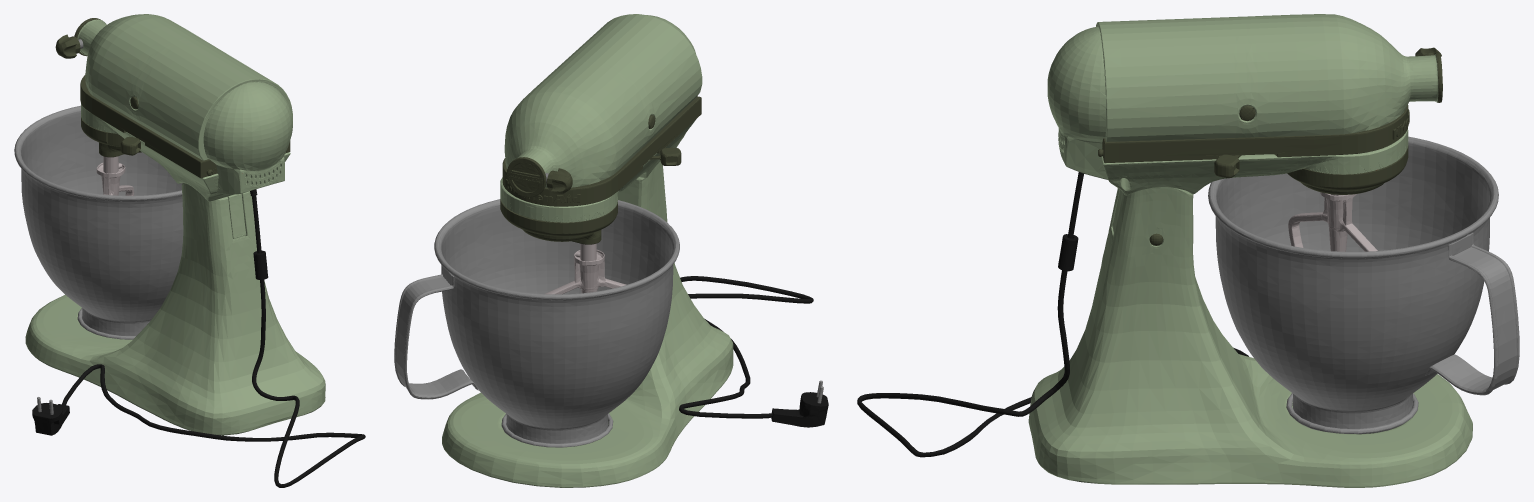
The model's file is mixer_green.glb.
3 views of the same model, side by side, from view 1: azimuth 30°, elevation 25°; view 2: azimuth 150°, elevation 25°; view 3: azimuth 270°, elevation 25° (orthographic). The views are drawn at different scales.
Bounding box in the file's own units: 0.1138 × 0.1288 × 0.1883.
